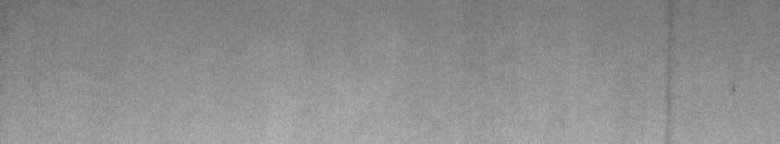ib: (662, 22, 739, 112)
